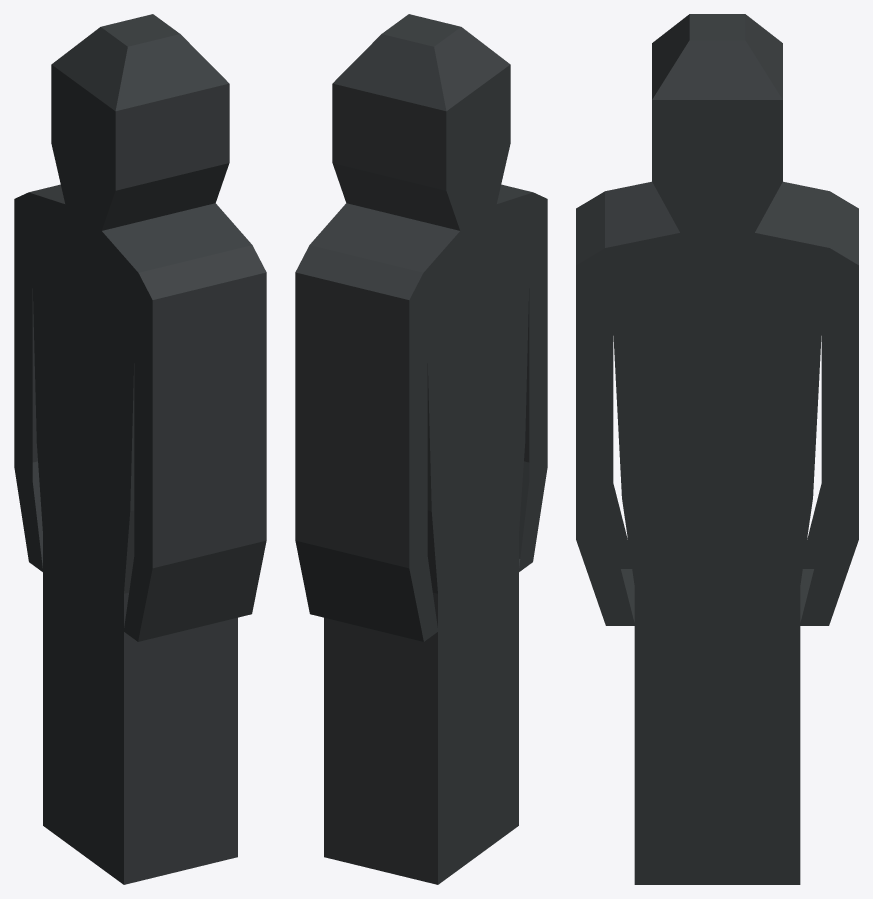
File: person.glb
The picture shows the model from 3 angles, left to right: view 1: azimuth 30°, elevation 25°; view 2: azimuth 150°, elevation 25°; view 3: azimuth 270°, elevation 25°; orthographic projection. The views are drawn at different scales.
Parts seen in each view (by area): view 1: PersonSilhouette; view 2: PersonSilhouette; view 3: PersonSilhouette.
Boxes of the visible parts, x1,y1,x2,y2 form: PersonSilhouette: (14,14,266,884); PersonSilhouette: (295,14,547,884); PersonSilhouette: (576,14,858,884).
Size of the model in its own units: 0.25 by 1.7 by 0.5256.
1 material, 1 textured.
